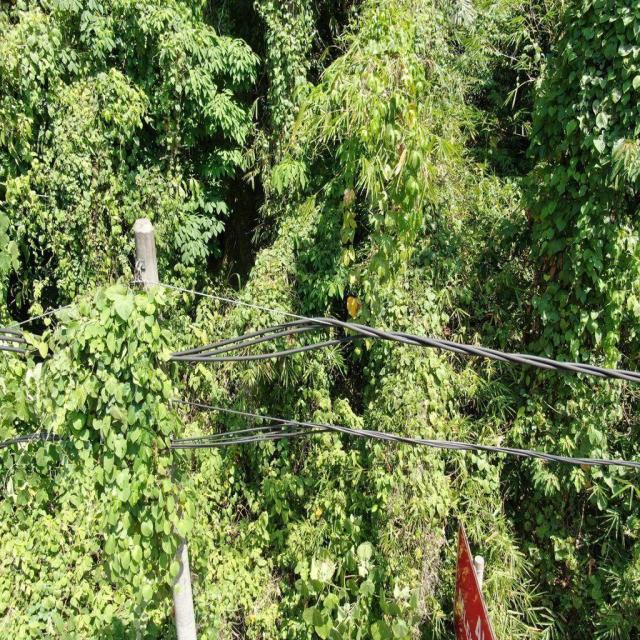critical vegetation: (30, 250, 203, 602)
